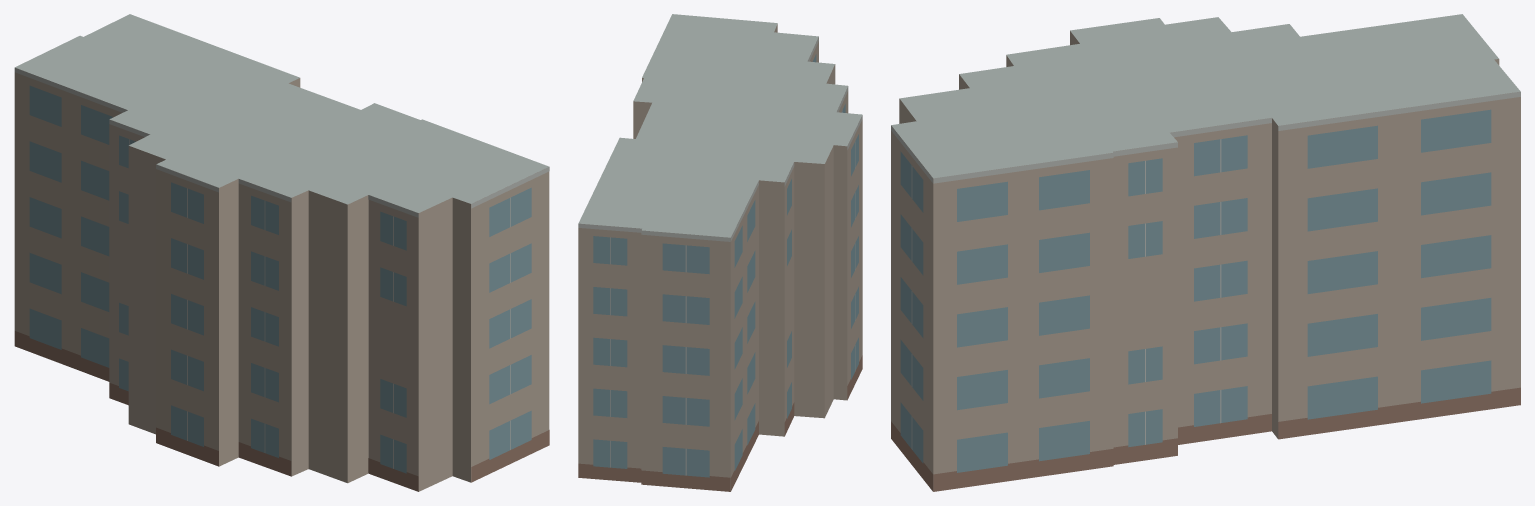
The model's file is survey-upis-32511449.glb.
3 renders of one model, left to right at view 1: azimuth 30°, elevation 25°; view 2: azimuth 150°, elevation 25°; view 3: azimuth 270°, elevation 25°, orthographic. The views are drawn at different scales.
Visible parts, largest first — view 1: survey-upis-32511449.tmp; view 2: survey-upis-32511449.tmp; view 3: survey-upis-32511449.tmp.
Boxes of the visible parts, x1,y1,x2,y2 form: survey-upis-32511449.tmp: (14, 14, 549, 491); survey-upis-32511449.tmp: (578, 14, 862, 491); survey-upis-32511449.tmp: (891, 14, 1520, 491).
Size of the model in its own units: 16.32 by 14.5 by 26.41.
